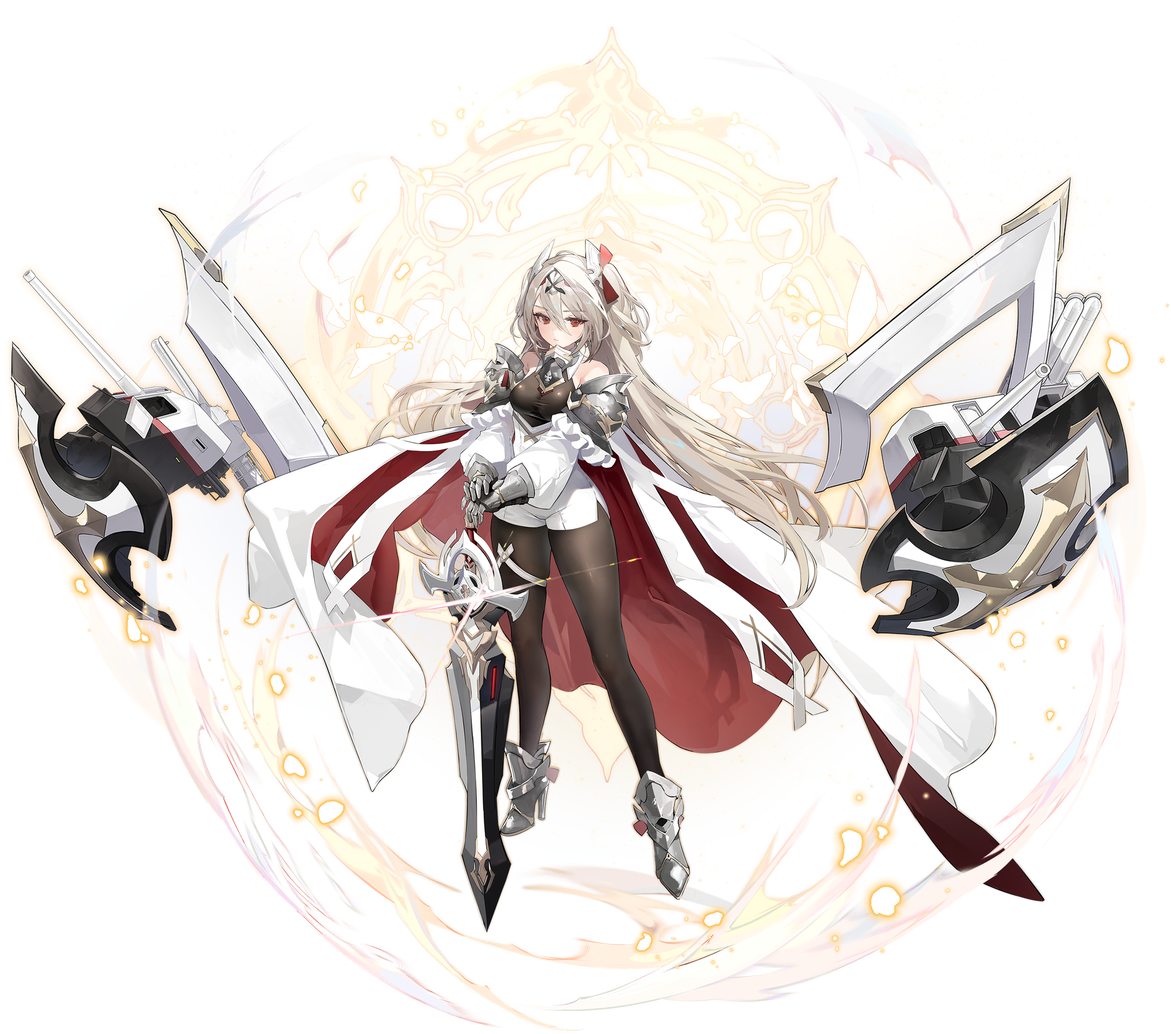person: (371, 218, 746, 938)
